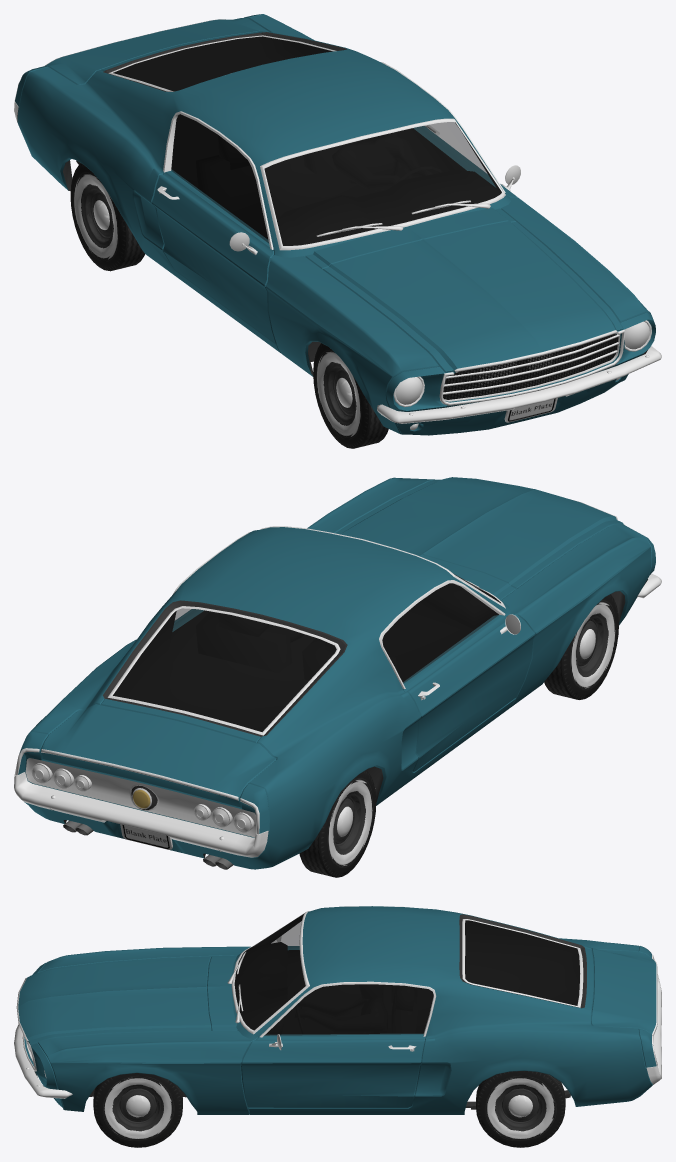
File: MuscleCar.fbx
3 renders of one model, top to bottom at view 1: azimuth 30°, elevation 25°; view 2: azimuth 150°, elevation 25°; view 3: azimuth 270°, elevation 25°, orthographic. The views are drawn at different scales.
Parts seen in each view (by area): view 1: MuscleCar, Mc_InteriorPed, Mc_RRWheel, Mc_FRWheel, Mc_RRWheel_LOD, Mc_FRWheel_LOD, Mc_Extras, Mc_Plate; view 2: MuscleCar, Mc_RRWheel, Mc_FRWheel, Mc_RRWheel_LOD, Mc_FRWheel_LOD, Mc_Plate; view 3: MuscleCar, Mc_RLWheel, Mc_FLWheel, Mc_RLWheel_LOD, Mc_FLWheel_LOD, Mc_InteriorPed, Mc_Extras.
Boxes of the visible parts, x1,y1,x2,y2 form: MuscleCar: [14, 14, 661, 435]; Mc_InteriorPed: [332, 134, 432, 191]; Mc_RRWheel: [70, 163, 144, 271]; Mc_FRWheel: [313, 343, 388, 448]; Mc_RRWheel_LOD: [71, 163, 144, 270]; Mc_FRWheel_LOD: [314, 344, 388, 448]; Mc_Extras: [316, 166, 490, 236]; Mc_Plate: [504, 398, 557, 422]; MuscleCar: [14, 477, 661, 869]; Mc_RRWheel: [299, 770, 376, 877]; Mc_FRWheel: [544, 594, 618, 699]; Mc_RRWheel_LOD: [299, 770, 375, 877]; Mc_FRWheel_LOD: [544, 594, 618, 699]; Mc_Plate: [120, 824, 172, 849]; MuscleCar: [14, 906, 661, 1114]; Mc_RLWheel: [476, 1071, 565, 1147]; Mc_FLWheel: [93, 1073, 182, 1147]; Mc_RLWheel_LOD: [476, 1071, 565, 1147]; Mc_FLWheel_LOD: [93, 1073, 182, 1147]; Mc_InteriorPed: [294, 984, 387, 1033]; Mc_Extras: [227, 952, 306, 1034].
Size of what is drawn, in the model's own units: 188 by 130 by 460.
